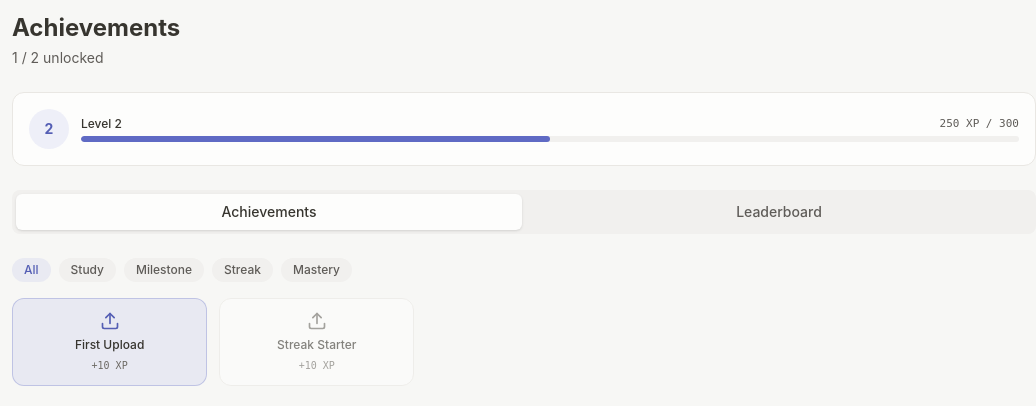
AchievementsPage category filter › shows a compact empty state when a category has no achievements
Click the button "Mastery" at (316, 270), box 281,258 -> 352,282
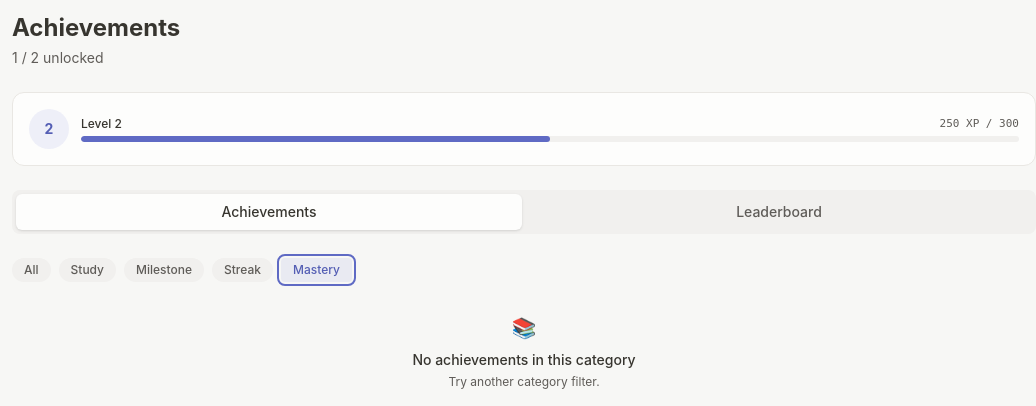
expect the text "No achievements in this category" is shown: met, box 412,350 -> 636,370
